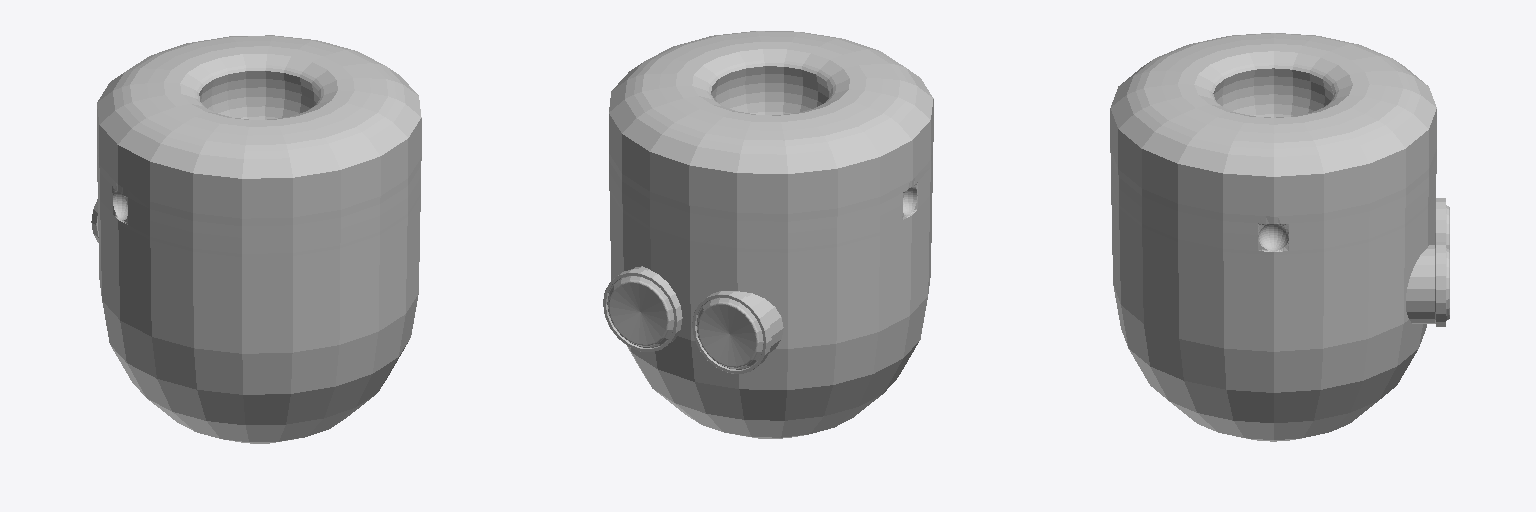
File: IronGiantHead.obj
3 renders of one model, left to right at view 1: azimuth 30°, elevation 25°; view 2: azimuth 150°, elevation 25°; view 3: azimuth 270°, elevation 25°, orthographic.
Parts seen in each view (by area): view 1: pSphere10; view 2: pSphere10; view 3: pSphere10.
Part boxes in pixels (left/top/right/bottom): pSphere10: left=91, top=35, right=421, bottom=443; pSphere10: left=603, top=31, right=933, bottom=438; pSphere10: left=1110, top=33, right=1449, bottom=441.
Size of the model in its own units: 5.15 by 5.97 by 5.35.